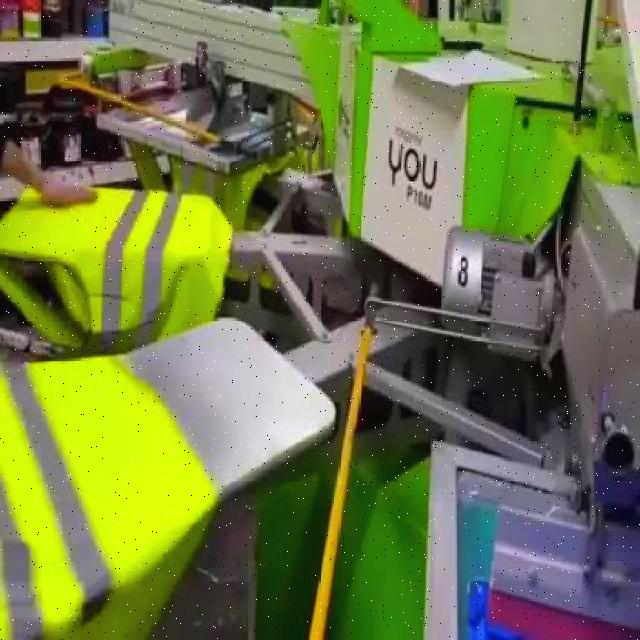Mask: (2, 351, 220, 638), (0, 181, 237, 365)
